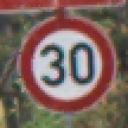speed_limit_30: (19, 16, 117, 114)
